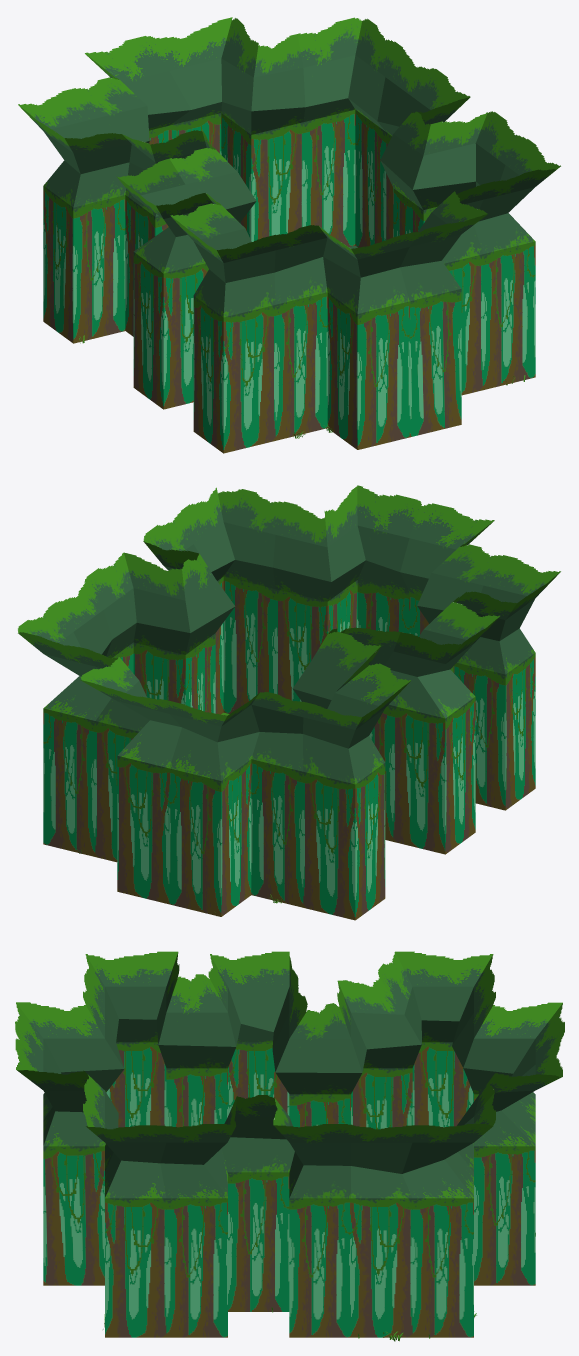
Rendered from dead_pol.glb.
The picture shows the model from 3 angles, top to bottom: view 1: azimuth 30°, elevation 25°; view 2: azimuth 150°, elevation 25°; view 3: azimuth 270°, elevation 25°; orthographic projection. The views are drawn at different scales.
Visible parts, largest first — view 1: деревья; view 2: деревья; view 3: деревья.
Part boxes in pixels (bbox=[...]): деревья: bbox=[18, 17, 560, 453]; деревья: bbox=[18, 485, 560, 920]; деревья: bbox=[15, 951, 564, 1337].
Size of the model in its own units: 13.44 by 8.25 by 17.91.
9 materials, 3 textured.
